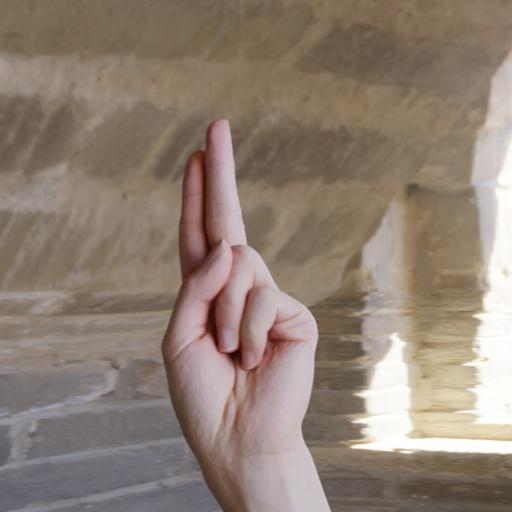U: (155, 113, 340, 512)
